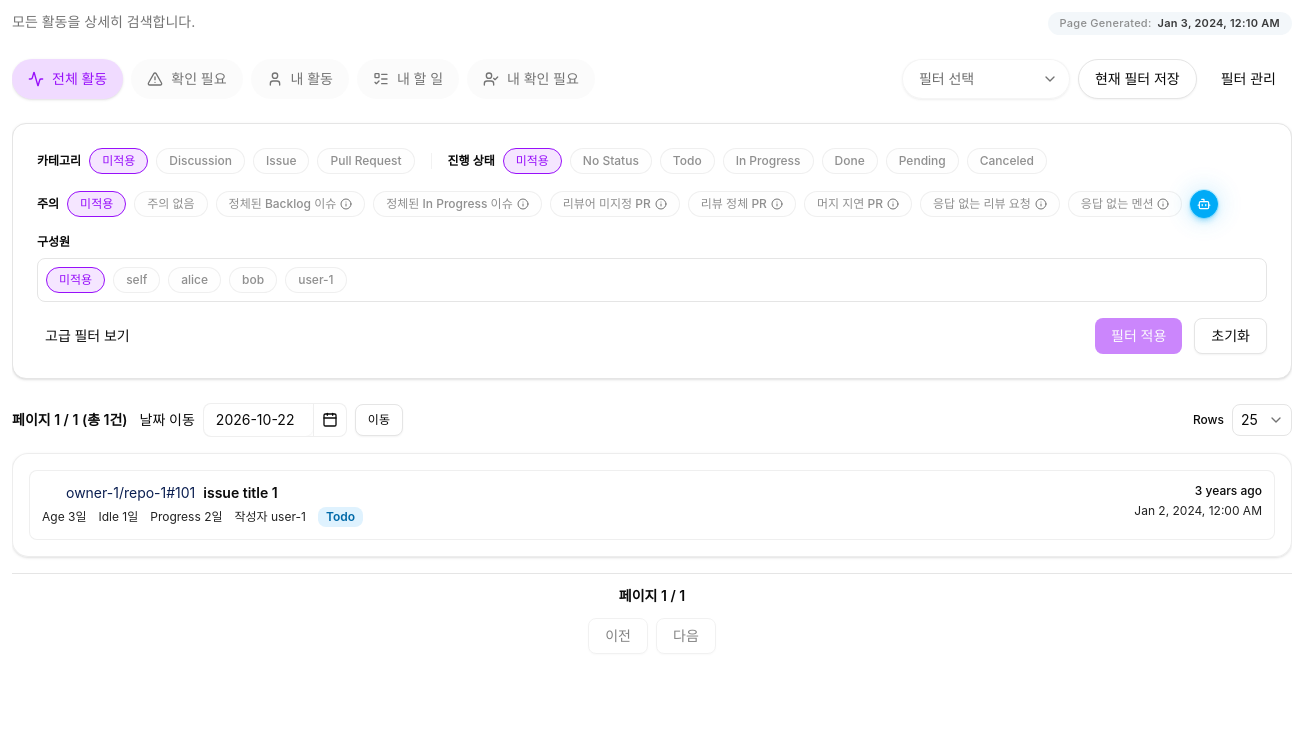
Scenario: ActivityView › applies quick filter and fetches updated results
Click the button "확인 필요". click: (187, 79)
box: [131, 59, 243, 99]
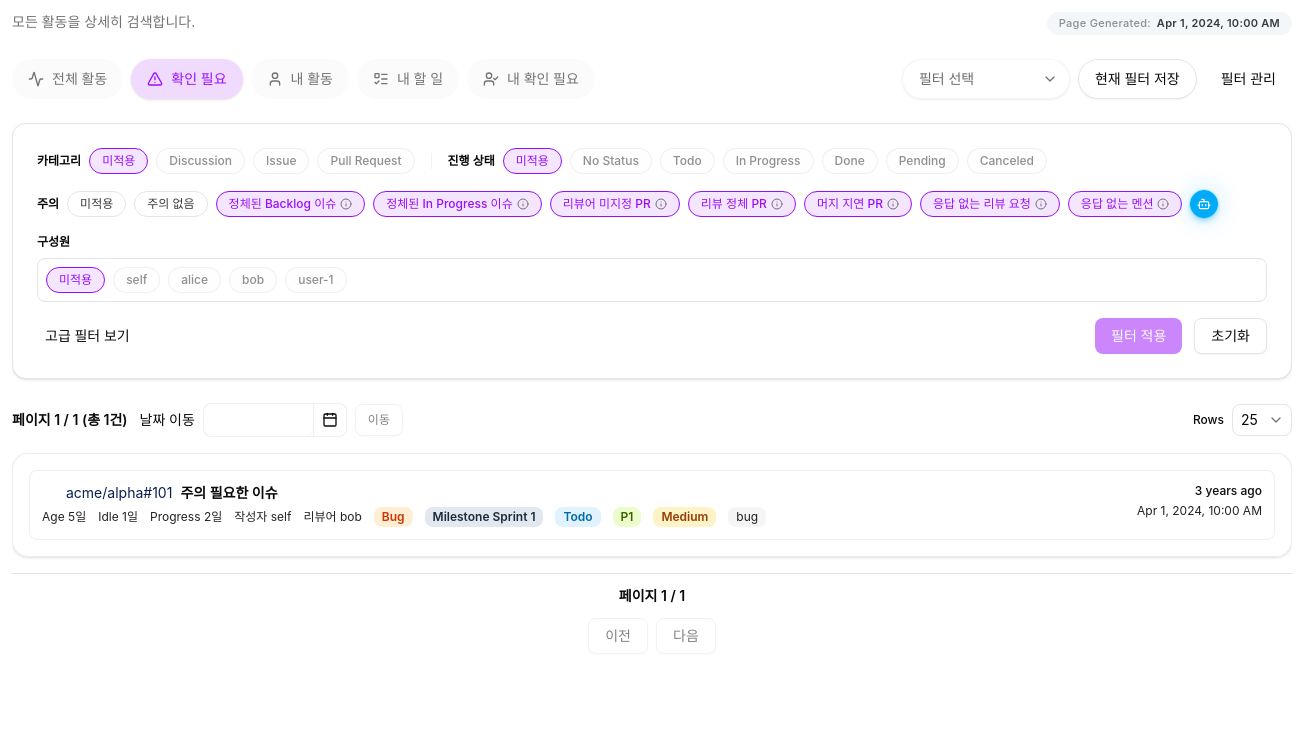
Check: the text "주의 필요한 이슈" is shown, box [180, 484, 278, 501]
